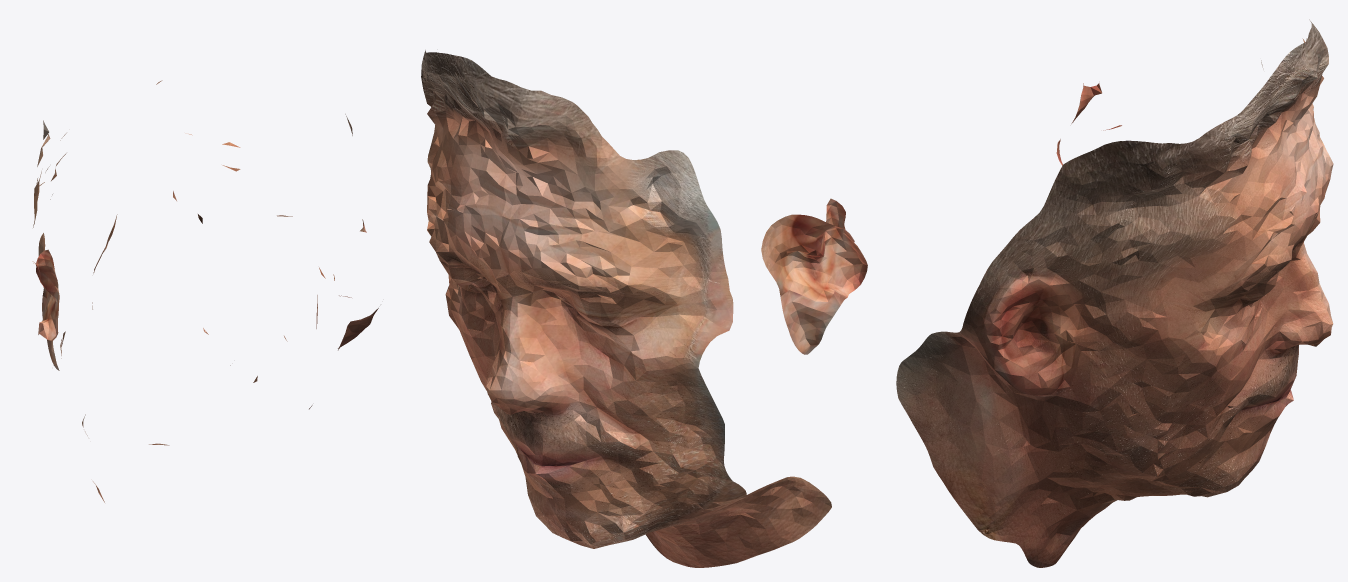
Rendered from BUSTO_12.glb.
3 renders of one model, left to right at view 1: azimuth 30°, elevation 25°; view 2: azimuth 150°, elevation 25°; view 3: azimuth 270°, elevation 25°, orthographic. The views are drawn at different scales.
Parts seen in each view (by area): view 1: 99; view 2: 99; view 3: 99.
Boxes of the visible parts, <box> form: 99: <box>32,80,378,502</box>; 99: <box>421,50,867,567</box>; 99: <box>896,19,1333,567</box>.
Size of the model in its own units: 3.25 by 4.57 by 3.31.
Materials: 1 (1 with a texture image).
